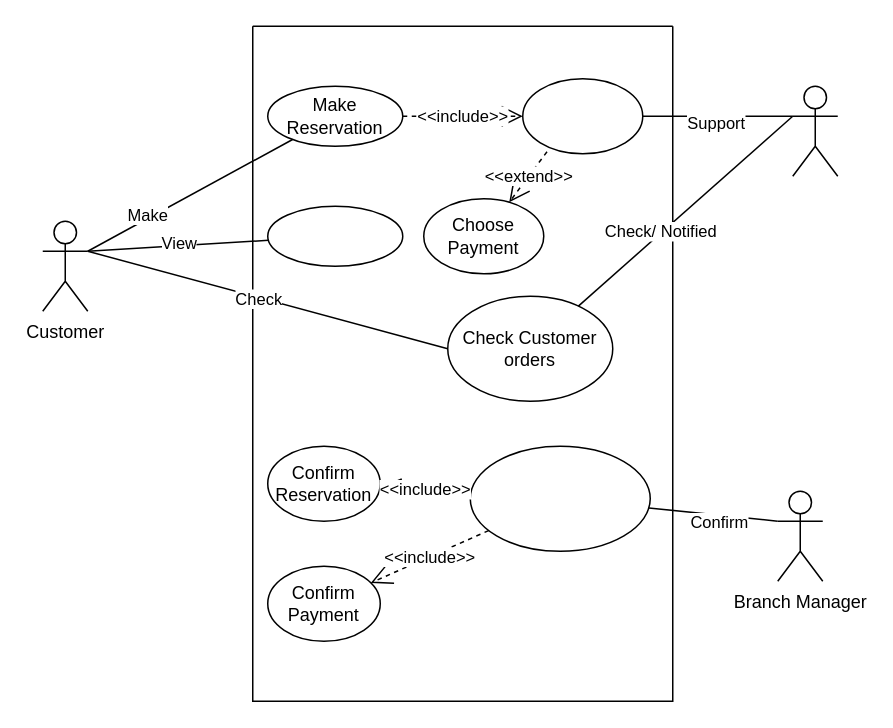
Image size: 893x728. Some labels were removed from this diagram. The centre of each missing label's shape, as x and y in pixels:
"Manage Orders" belongs at pixel 559 498.
"Place Order (Choose Menu)" belongs at pixel 582 115.
"Staff" belongs at pixel 814 130.
"View Tables" belongs at pixel 334 235.
